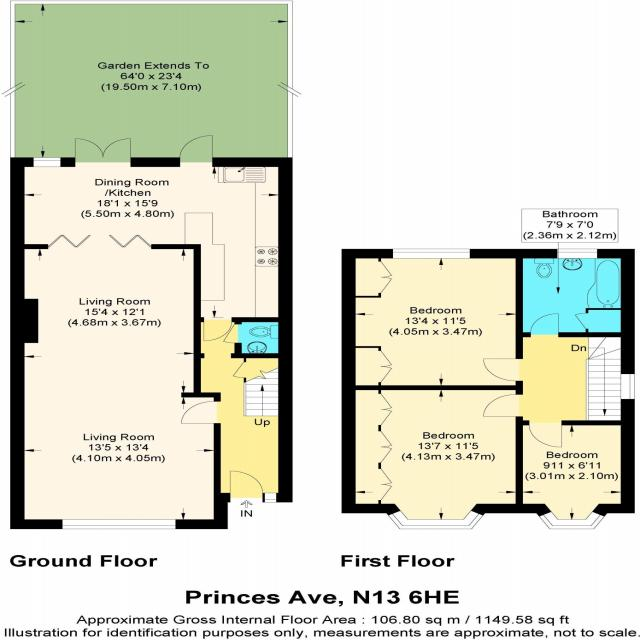DOOR: (178, 134, 214, 167), (229, 470, 264, 502), (528, 420, 564, 448), (482, 358, 523, 382), (180, 400, 221, 424), (482, 394, 523, 417), (202, 317, 233, 342), (529, 313, 560, 337)
DOUBLE DOOR: (74, 137, 133, 167)
ROOM: (9, 233, 228, 530), (10, 135, 293, 342), (341, 385, 523, 530), (341, 248, 523, 390), (515, 420, 635, 530)
WINDOW: (387, 510, 484, 530), (538, 510, 606, 530), (61, 519, 177, 529), (391, 248, 471, 260), (556, 248, 598, 259), (620, 373, 636, 400), (32, 157, 62, 168), (264, 492, 277, 503)
